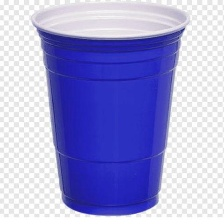glass: (28, 0, 203, 220)
